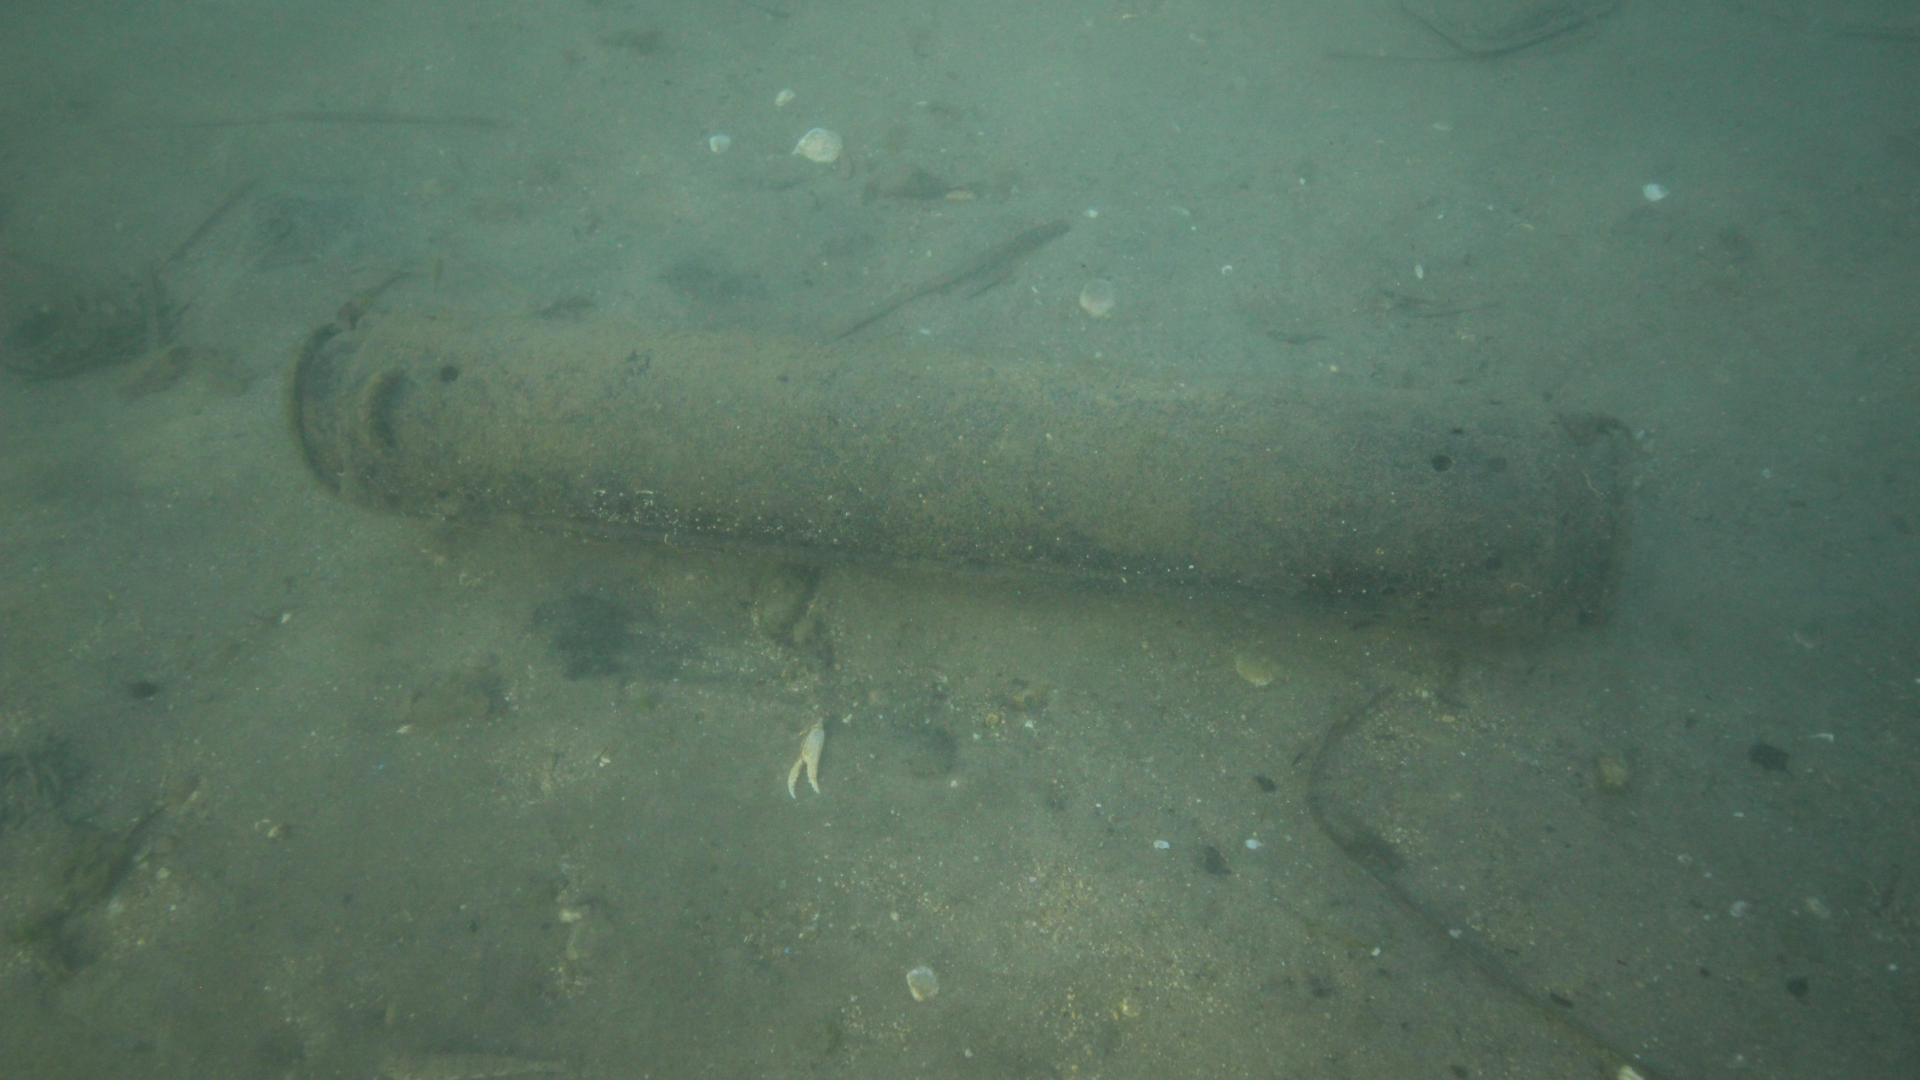eel fish trap: (293, 303, 1633, 632)
